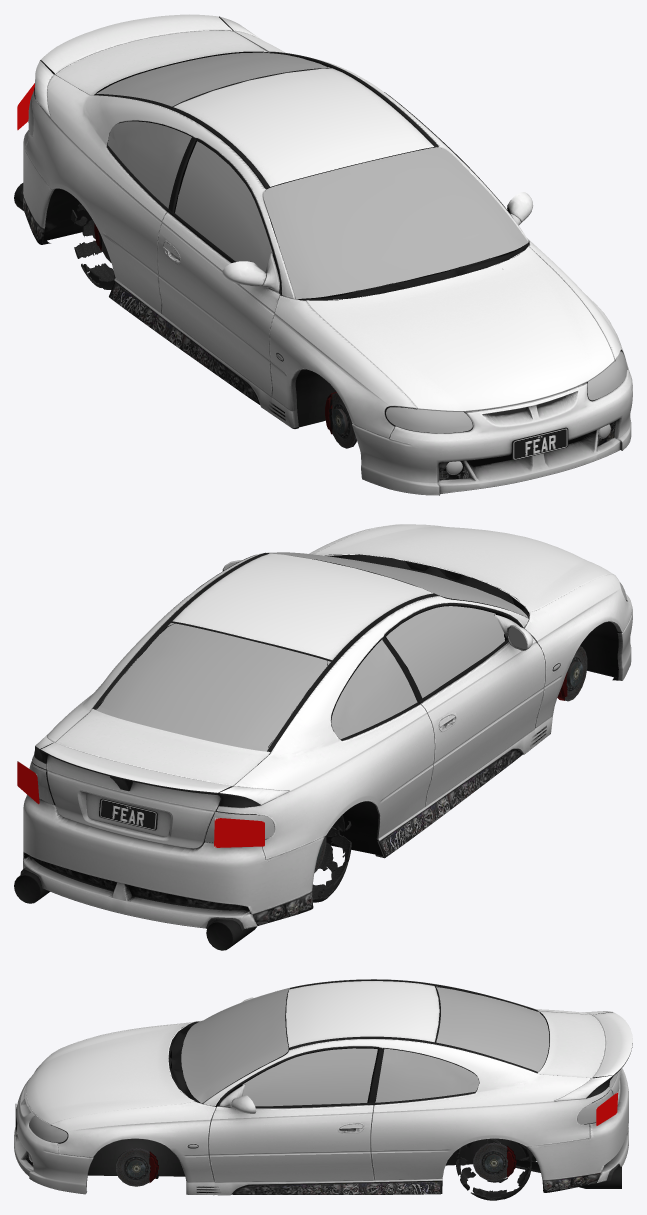
The model's file is 31_FearMonaro.fbx.
The picture shows the model from 3 angles, top to bottom: view 1: azimuth 30°, elevation 25°; view 2: azimuth 150°, elevation 25°; view 3: azimuth 270°, elevation 25°; orthographic projection. The views are drawn at different scales.
Parts seen in each view (by area): view 1: body_duco, body_glass, kit_00_duco, body_glossy, body_matte, NumberPlate_Front, Rotor; view 2: body_duco, body_glass, kit_00_duco, body_glossy, body_matte, BrakeLights, NumberPlate, Rotor; view 3: body_duco, body_glass, kit_00_duco, body_glossy, body_matte, Rotor (×2), BrakeLights.
Part boxes in pixels (x1,y1,x2,y2): body_duco: [20, 14, 632, 495]; body_glass: [28, 52, 626, 474]; kit_00_duco: [306, 246, 614, 411]; body_glossy: [94, 52, 620, 468]; body_matte: [14, 52, 583, 466]; NumberPlate_Front: [512, 427, 568, 460]; Rotor: [331, 393, 356, 448]; body_duco: [20, 524, 632, 930]; body_glass: [29, 552, 626, 842]; kit_00_duco: [314, 524, 612, 611]; body_glossy: [32, 552, 626, 842]; body_matte: [14, 559, 622, 950]; BrakeLights: [17, 761, 264, 847]; NumberPlate: [99, 798, 157, 830]; Rotor: [565, 646, 587, 701]; body_duco: [14, 979, 632, 1195]; body_glass: [28, 986, 613, 1161]; kit_00_duco: [26, 1022, 194, 1124]; body_glossy: [29, 979, 609, 1143]; body_matte: [88, 987, 621, 1188]; Rotor (×2): [116, 1142, 507, 1186]; BrakeLights: [596, 1092, 618, 1126].
Size of what is drawn, in the model's own units: 2.01 by 1.37 by 4.84.
